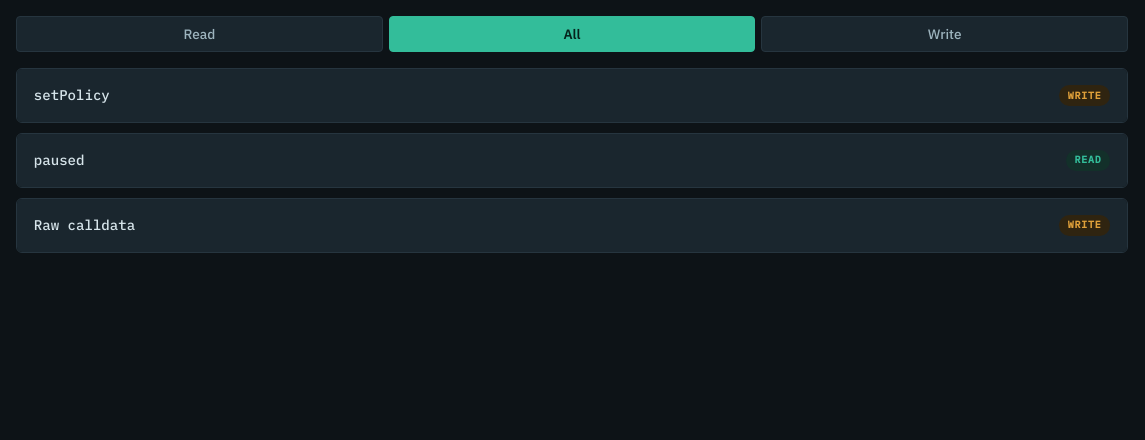
Test: Clear appears for an argument-less function once it has a result
What coordinates should you click on to do the following:
click the text "paused"
I would click on:
 (59, 160)
Its box is [34,151,84,169].
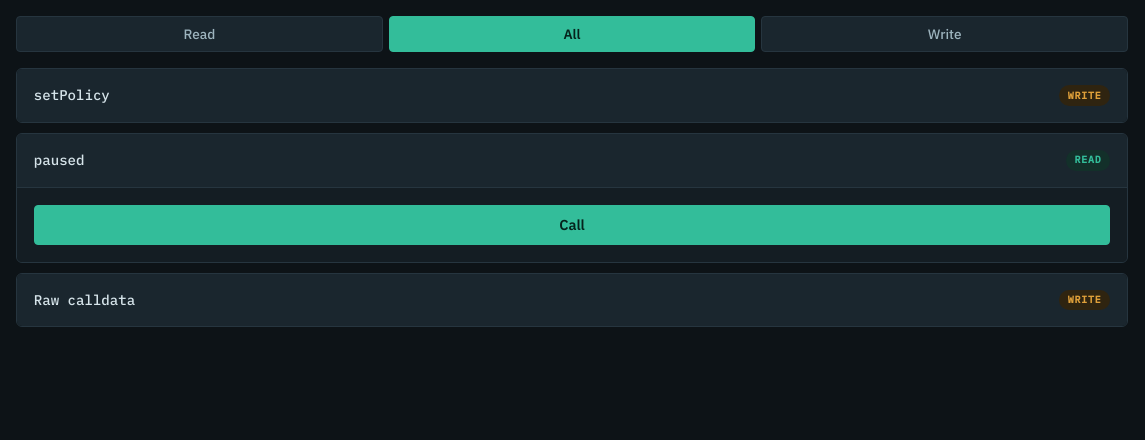
What coordinates should you click on to do the following:
click the button "Call"
I would click on:
 (572, 225)
Its box is [34,205,1110,245].
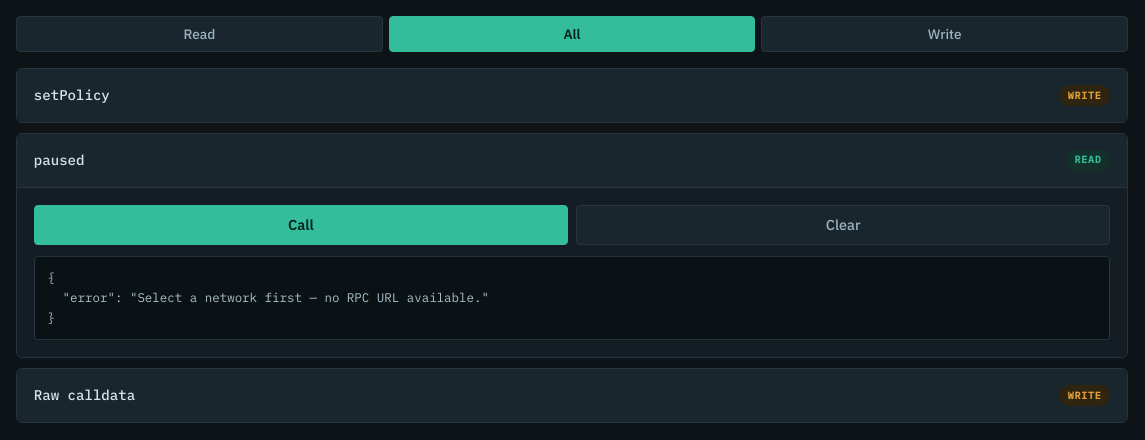
Now the text "Select a network first" is shown, box [48,269,489,325]
What coordinates should you click on to do the following:
click the button "Clear"
I would click on:
 (843, 225)
Its box is [576,205,1110,245].
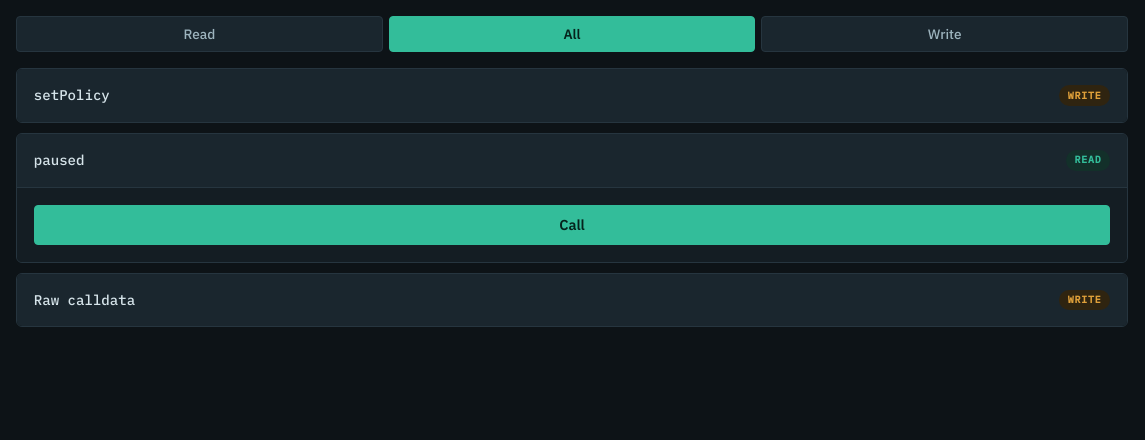
Now the button "Clear" is gone
